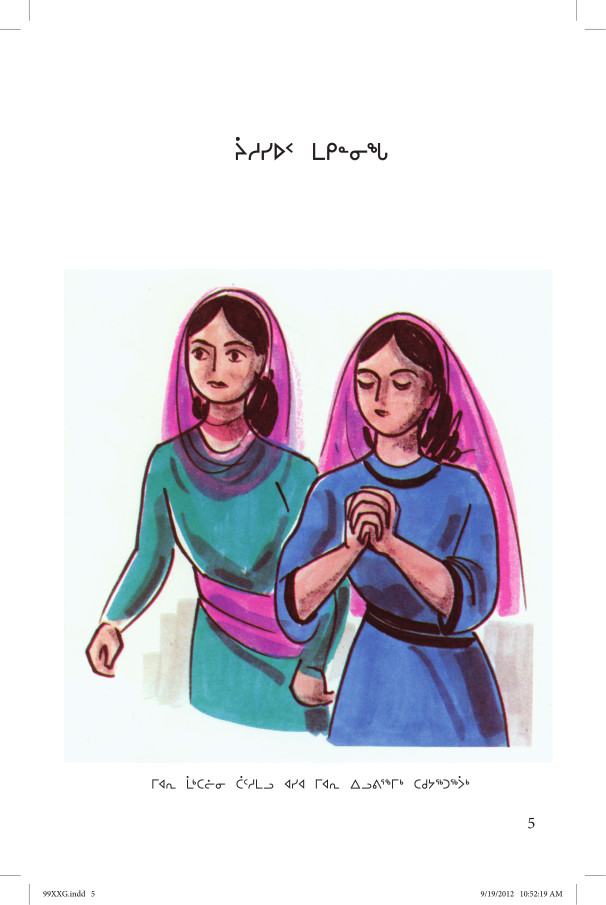inuktitut: (143, 769, 472, 794), (224, 125, 395, 166)
